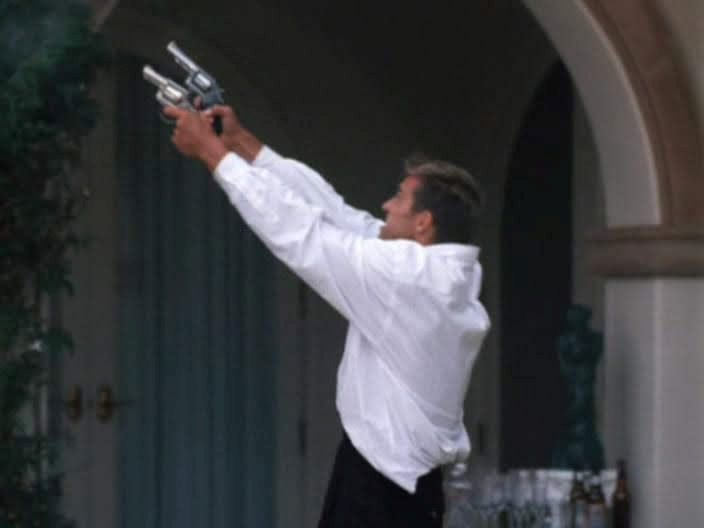gun: (159, 21, 238, 125), (125, 53, 193, 156)
